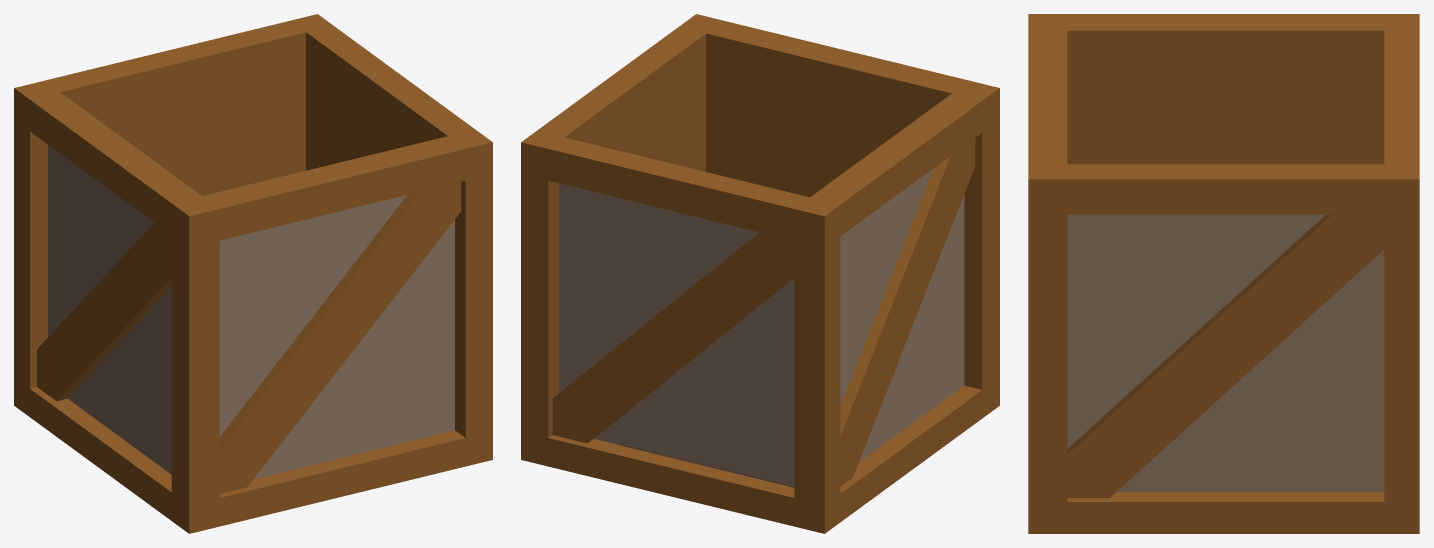
The model's file is CoalBoxEmpty.fbx.
3 views of the same model, side by side, from view 1: azimuth 30°, elevation 25°; view 2: azimuth 150°, elevation 25°; view 3: azimuth 270°, elevation 25° (orthographic). The views are drawn at different scales.
Visible parts, largest first — view 1: pCube26; view 2: pCube26; view 3: pCube26.
Part boxes in pixels (x1=…): pCube26: x1=14, y1=14, x2=492, y2=533; pCube26: x1=521, y1=14, x2=999, y2=533; pCube26: x1=1028, y1=14, x2=1419, y2=533.
Bounding box in the file's own units: 1 × 1 × 1.
